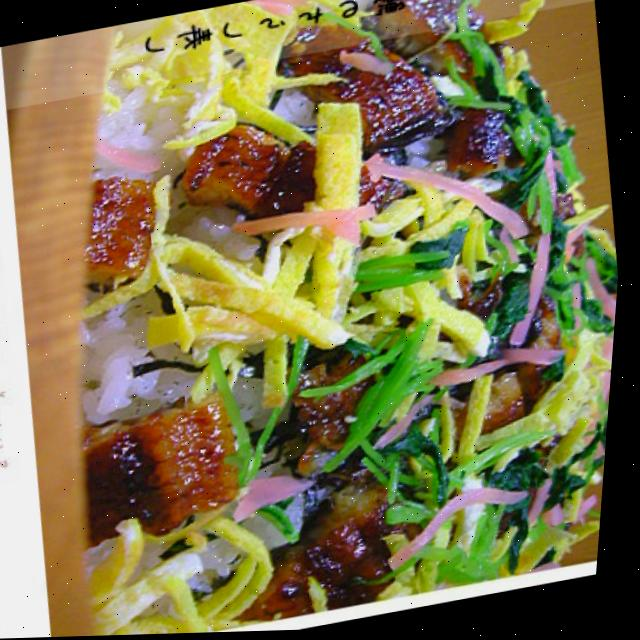寿司卷物: (6, 15, 638, 639)
